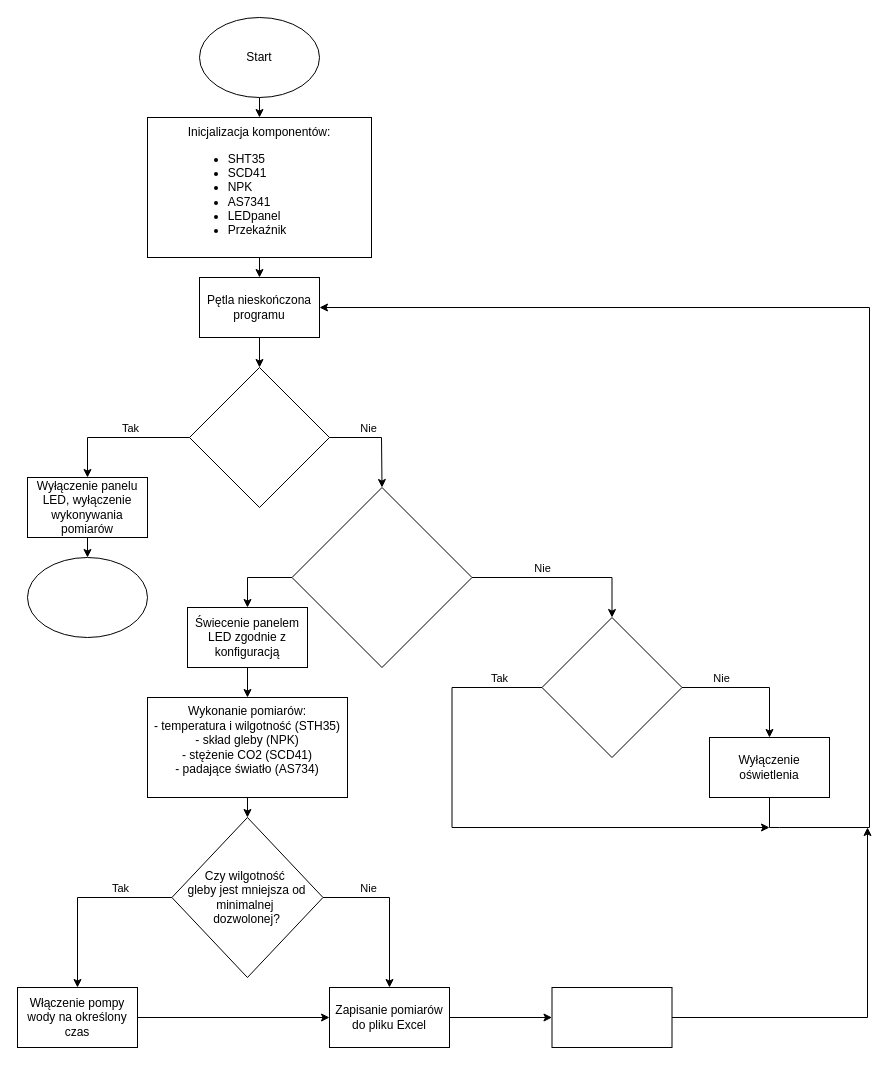
Some shapes in this 895 by 1065 pixel diagram are drawn without their labels. The centre of each missing label's shape, as x and y in pixels:
Czy obecna godzina znajduje się w zakresie pracy?: the point at 381,577
Czy oświetlenie jest wyłączone?: the point at 611,687
Czy wystąpiło przerwanie?: the point at 259,437
Odczekanie interwału 3600 sekund: the point at 611,1017
Stop: the point at 87,597
